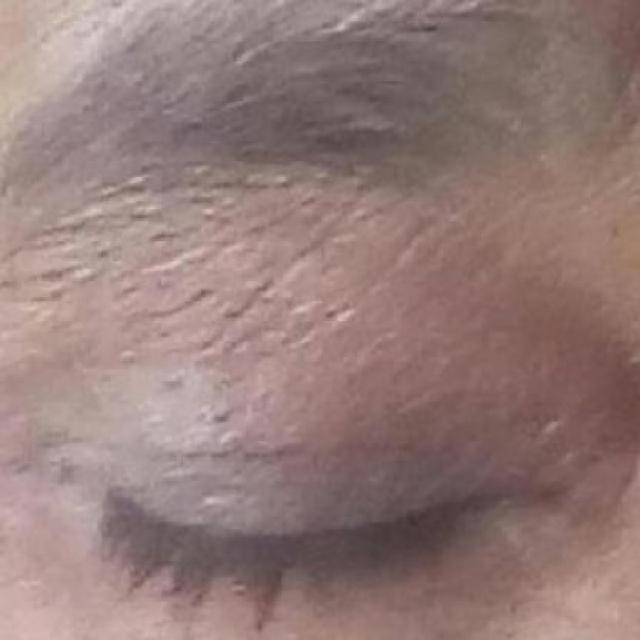drowsy: (87, 324, 528, 638)
